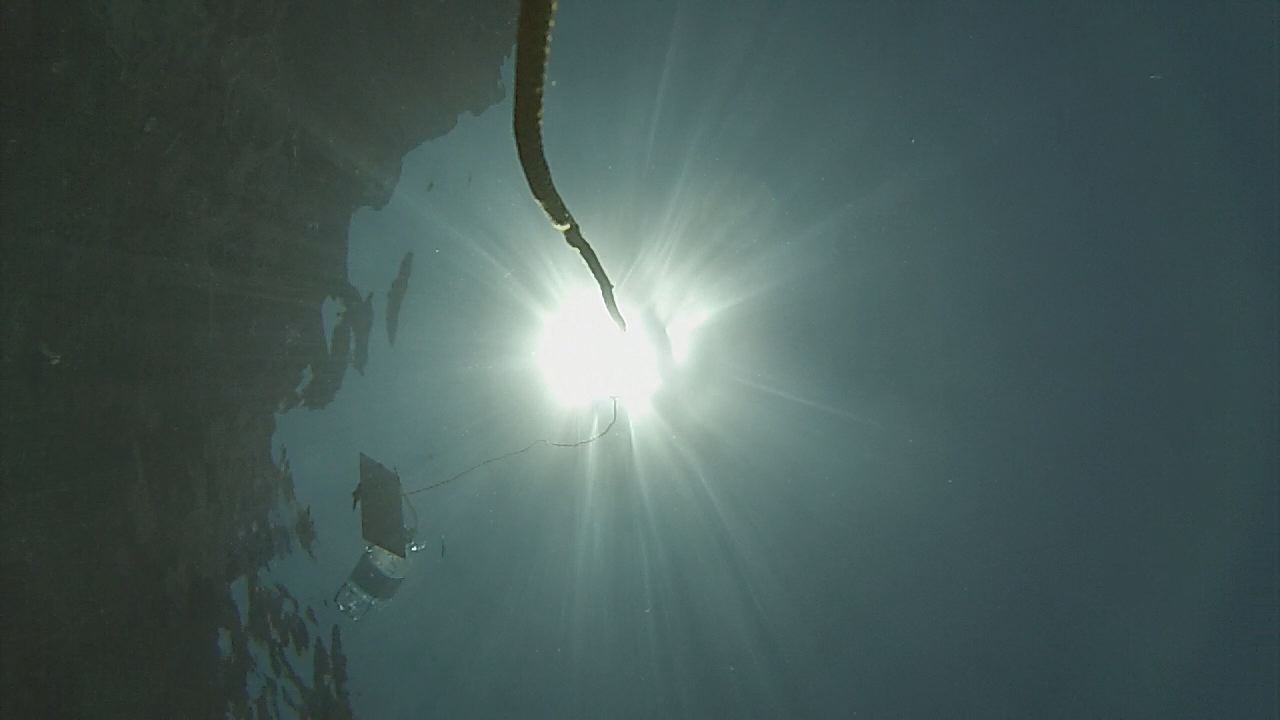pelagia: (31, 337, 62, 369)
